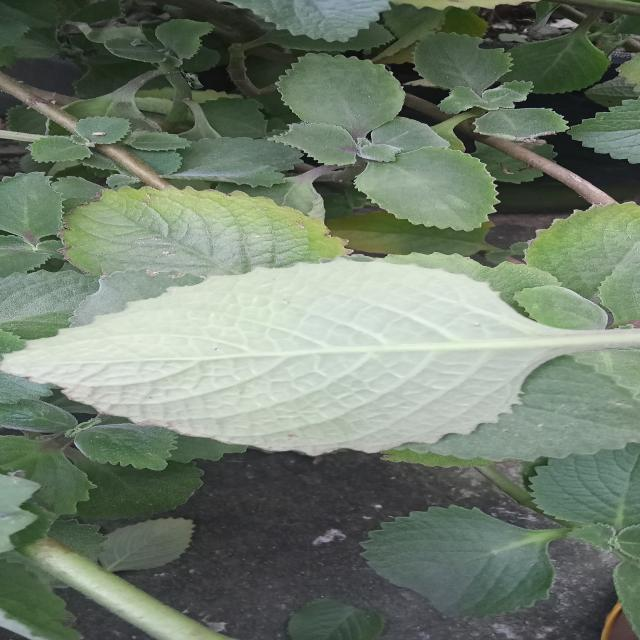Oregano: (35, 242, 640, 500)
